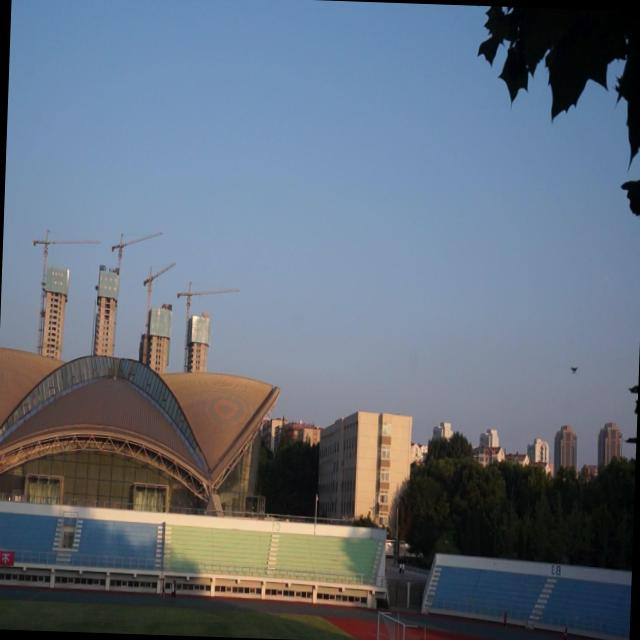drone: (570, 360, 580, 376)
